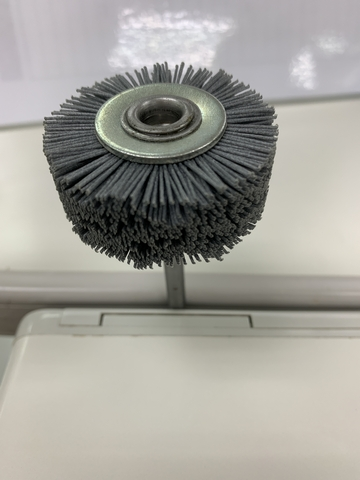Wheel Brush: (32, 57, 299, 297), (66, 54, 262, 304)
